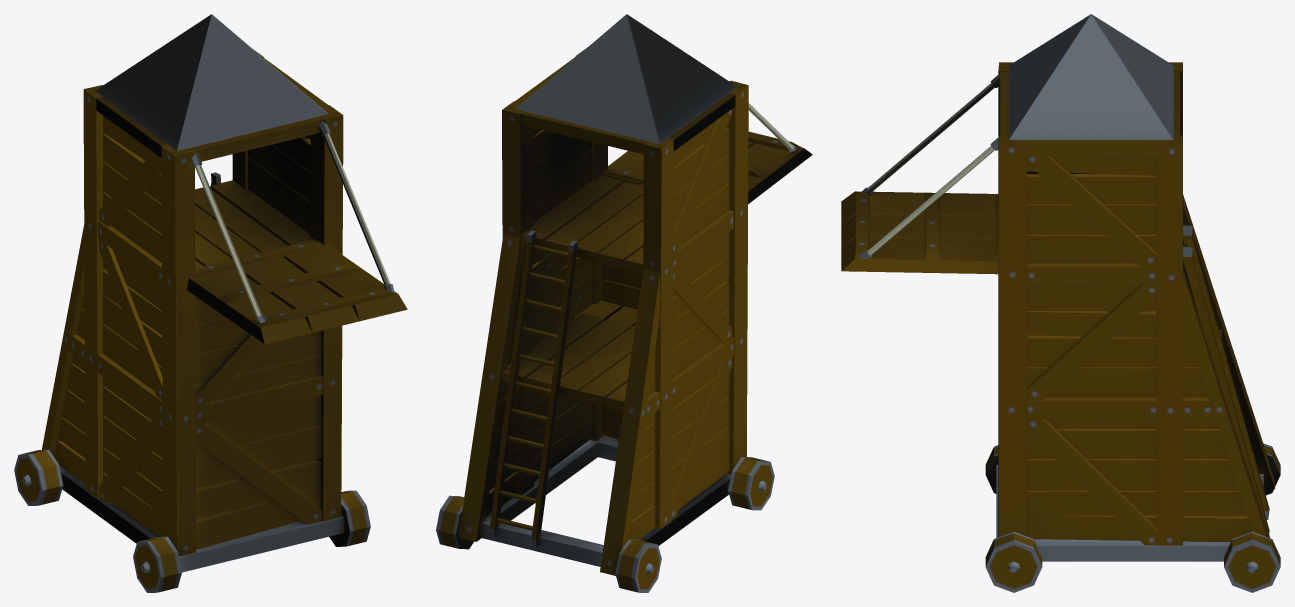
File: siege_tower.glb
3 views of the same model, side by side, from view 1: azimuth 30°, elevation 25°; view 2: azimuth 150°, elevation 25°; view 3: azimuth 270°, elevation 25° (orthographic). The views are drawn at different scales.
Visible parts, largest first — view 1: Siege_tower; view 2: Siege_tower; view 3: Siege_tower.
Boxes of the visible parts, left/top/right/bottom form: Siege_tower: left=14, top=14, right=407, bottom=592; Siege_tower: left=436, top=14, right=812, bottom=592; Siege_tower: left=841, top=14, right=1280, bottom=592.
Size of the model in its own units: 0.8666 by 2 by 1.51.
1 material, 1 textured.
